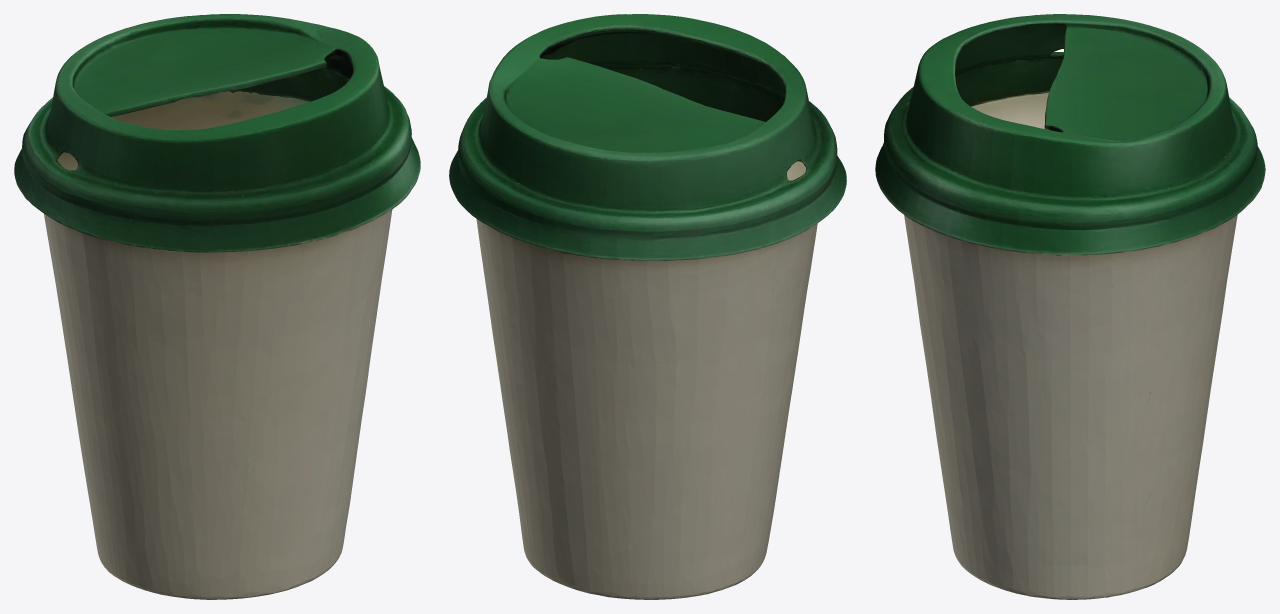
File: takeaway.glb
The picture shows the model from 3 angles, left to right: view 1: azimuth 30°, elevation 25°; view 2: azimuth 150°, elevation 25°; view 3: azimuth 270°, elevation 25°; orthographic projection. The views are drawn at different scales.
Visible parts, largest first — view 1: geometry_0; view 2: geometry_0; view 3: geometry_0.
Boxes of the visible parts, box(x1,y1,x2,y2) form: geometry_0: box(14, 14, 420, 599); geometry_0: box(449, 14, 846, 599); geometry_0: box(875, 14, 1265, 599).
Bounding box in the file's own units: 0.7647 × 0.9992 × 0.7367.
1 material, 1 textured.
